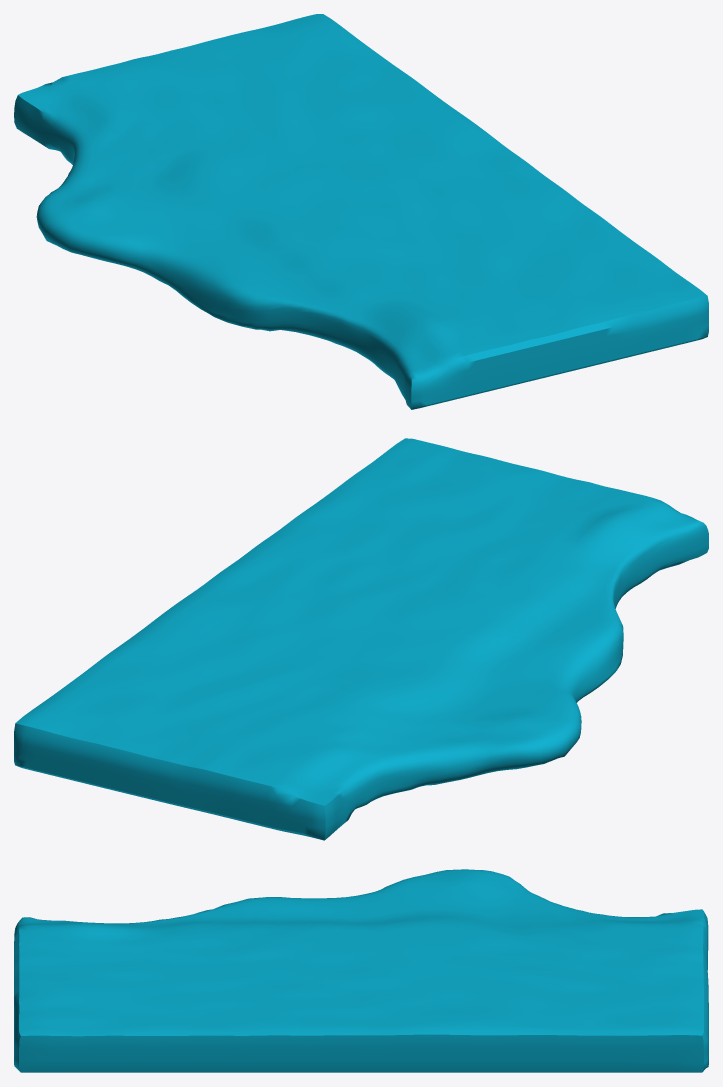
File: water.obj
3 renders of one model, top to bottom at view 1: azimuth 30°, elevation 25°; view 2: azimuth 150°, elevation 25°; view 3: azimuth 270°, elevation 25°, orthographic. The views are drawn at different scales.
Visible parts, largest first — view 1: water; view 2: water; view 3: water.
Part boxes in pixels (box(x1,y1,x2,y2)): water: box(14, 14, 708, 409); water: box(14, 438, 708, 840); water: box(14, 869, 708, 1072).
Bounding box in the file's own units: 6.01 × 0.6512 × 9.89.
